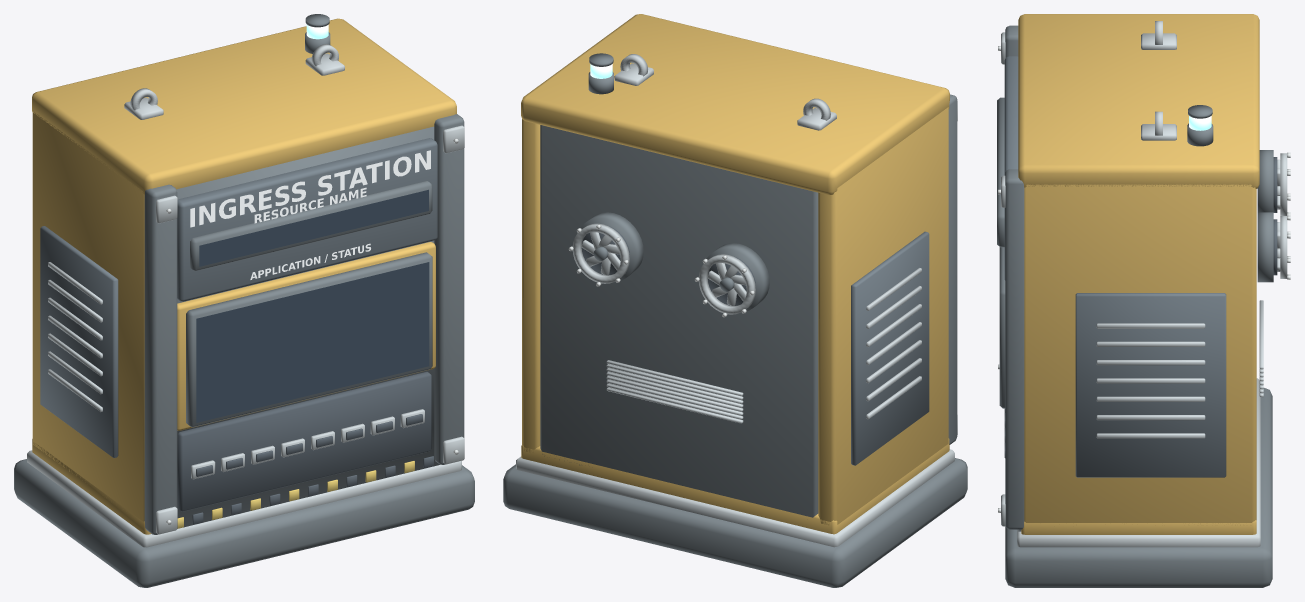
Rendered from ingress_station_enhanced.glb.
The picture shows the model from 3 angles, left to right: view 1: azimuth 30°, elevation 25°; view 2: azimuth 150°, elevation 25°; view 3: azimuth 270°, elevation 25°; orthographic projection. The views are drawn at different scales.
Parts seen in each view (by area): view 1: Roof_gold, LiveViewSurface_glass, SideWall_gold, CornerPost_frame, Skid_frame, PatchPanel_black, FrontHeader_graphite, SideServicePanel_graphite, SealFront_frame, SkidDeck_steel, LiveViewSurfaceFrame_frame, ResourceNameSurface_glass (+14 smaller); view 2: BackWall_frame, Roof_gold, SideWall_gold, Skid_frame, SideServicePanel_graphite, SkidDeck_steel, KickPlate_gold, RearFan_steel, RearVent_steel, CornerPost_frame, RearFan_frame, SideLouver_steel (+3 smaller); view 3: SideWall_gold, Roof_gold, SideServicePanel_graphite, Skid_frame, CornerPost_frame, SideLouver_steel, SkidDeck_steel, KickPlate_gold, RearFan_frame, FrontHeader_graphite, RearFan_steel, LiveViewSurfaceFrame_frame (+7 smaller).
Boxes of the visible parts, x1,y1,x2,y2 form: Roof_gold: (32, 18, 456, 194); LiveViewSurface_glass: (196, 262, 429, 422); SideWall_gold: (32, 112, 144, 521); CornerPost_frame: (144, 114, 464, 534); Skid_frame: (14, 459, 474, 587); PatchPanel_black: (177, 372, 431, 511); FrontHeader_graphite: (177, 138, 437, 301); SideServicePanel_graphite: (40, 226, 118, 457); SealFront_frame: (176, 126, 439, 527); SkidDeck_steel: (27, 450, 461, 547); LiveViewSurfaceFrame_frame: (186, 252, 432, 427); ResourceNameSurface_glass: (199, 189, 428, 266); BackWall_frame: (540, 125, 818, 517); Roof_gold: (521, 14, 949, 195); SideWall_gold: (522, 107, 948, 525); Skid_frame: (503, 458, 967, 587); SideServicePanel_graphite: (851, 231, 929, 465); SkidDeck_steel: (516, 449, 954, 547); KickPlate_gold: (521, 438, 949, 534); RearFan_steel: (572, 223, 755, 314); RearVent_steel: (606, 360, 743, 423); CornerPost_frame: (948, 94, 957, 444); RearFan_frame: (581, 212, 769, 312); SideLouver_steel: (866, 268, 921, 419); SideWall_gold: (1024, 184, 1256, 525); Roof_gold: (1018, 14, 1259, 188); SideServicePanel_graphite: (1075, 293, 1226, 477); Skid_frame: (1005, 388, 1272, 587); CornerPost_frame: (1005, 25, 1024, 529); SideLouver_steel: (1096, 323, 1205, 438); SkidDeck_steel: (1017, 378, 1260, 547); KickPlate_gold: (1021, 520, 1256, 534); RearFan_frame: (1257, 150, 1273, 282); FrontHeader_graphite: (1004, 56, 1018, 280); RearFan_steel: (1277, 153, 1287, 278); LiveViewSurfaceFrame_frame: (999, 247, 1005, 408).
Bounding box in the file's own units: 2 × 2.48 × 1.47.
